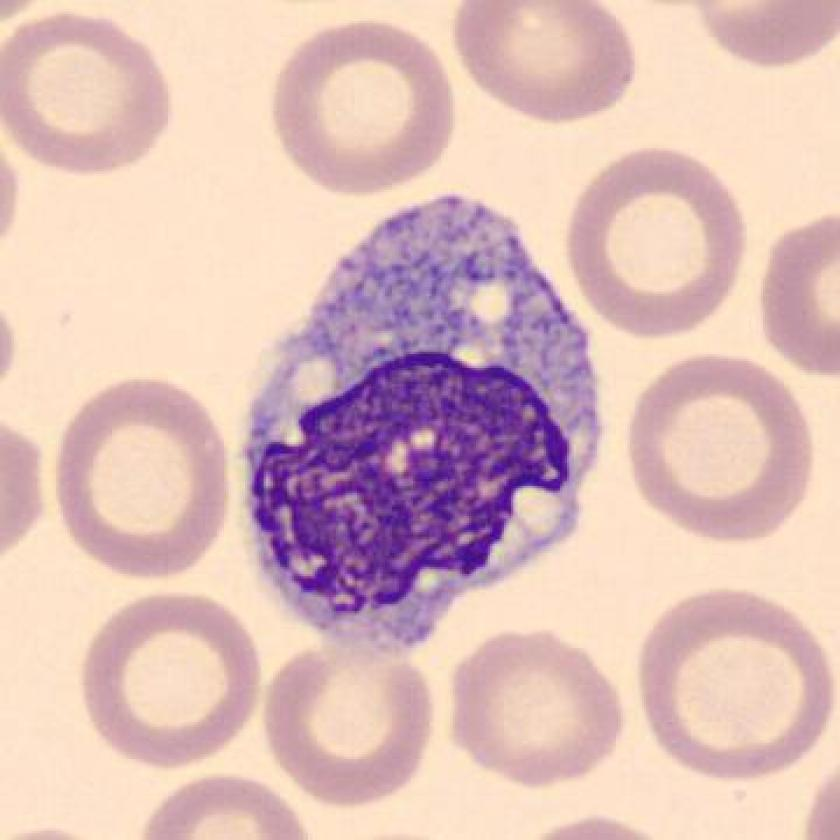monocyte: (216, 170, 626, 686)
